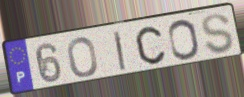6: (34, 41, 64, 85)
C: (133, 25, 167, 66)
I: (112, 29, 128, 73)
O: (166, 18, 202, 62), (66, 36, 100, 79)
S: (200, 12, 235, 56)
